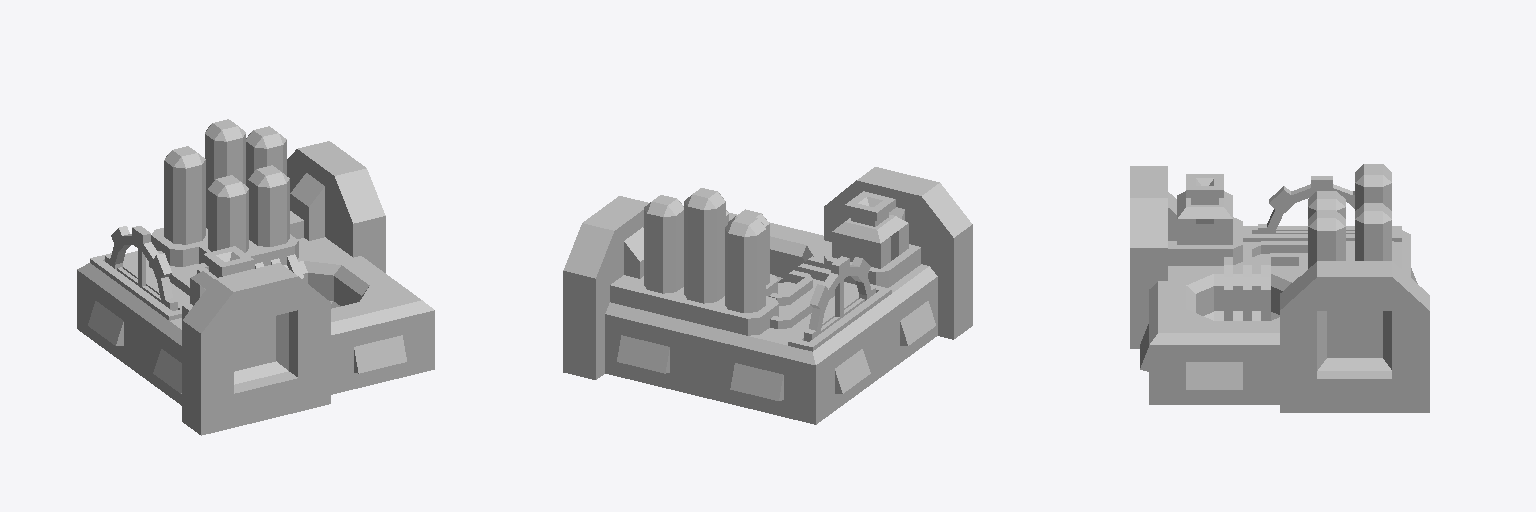
The model's file is fusery_inventory.obj.
3 renders of one model, left to right at view 1: azimuth 30°, elevation 25°; view 2: azimuth 150°, elevation 25°; view 3: azimuth 270°, elevation 25°, orthographic.
Visible parts, largest first — view 1: FUSERY_BODY_Cube.022, FUSERY_COG_Cube.023; view 2: FUSERY_BODY_Cube.022, FUSERY_COG_Cube.023; view 3: FUSERY_BODY_Cube.022, FUSERY_COG_Cube.023.
Boxes of the visible parts, x1=… form: FUSERY_BODY_Cube.022: x1=77, y1=119, x2=434, y2=435; FUSERY_COG_Cube.023: x1=105, y1=226, x2=177, y2=310; FUSERY_BODY_Cube.022: x1=563, y1=167, x2=972, y2=424; FUSERY_COG_Cube.023: x1=804, y1=256, x2=875, y2=341; FUSERY_BODY_Cube.022: x1=1130, y1=164, x2=1429, y2=412; FUSERY_COG_Cube.023: x1=1258, y1=176, x2=1354, y2=233.
Bounding box in the file's own units: 2 × 1.38 × 2.